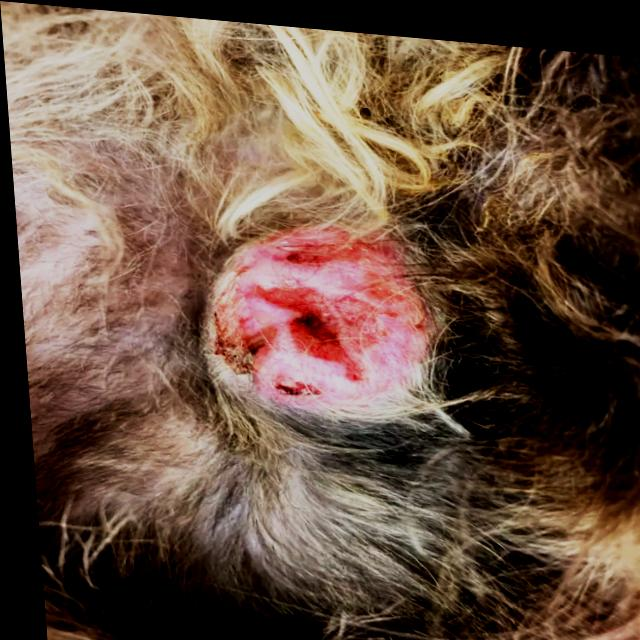lump_and_bump: (213, 227, 423, 407)
